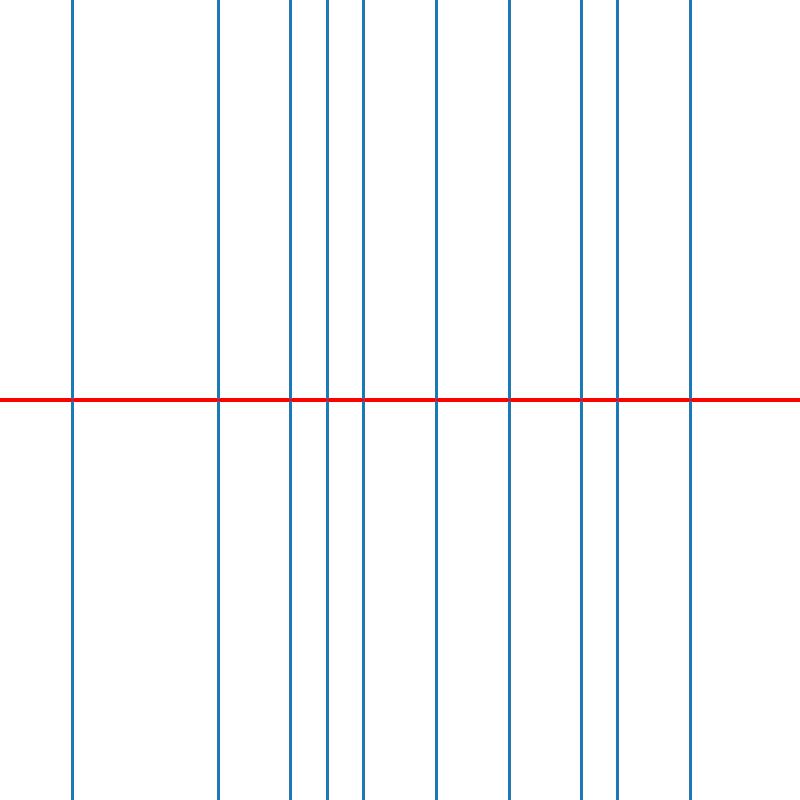root: (432, 396, 440, 404), (287, 396, 294, 404), (687, 396, 694, 404), (578, 396, 585, 404), (214, 396, 221, 404), (614, 396, 621, 404), (323, 396, 330, 404), (69, 396, 76, 404), (360, 396, 367, 404), (505, 396, 512, 404)
